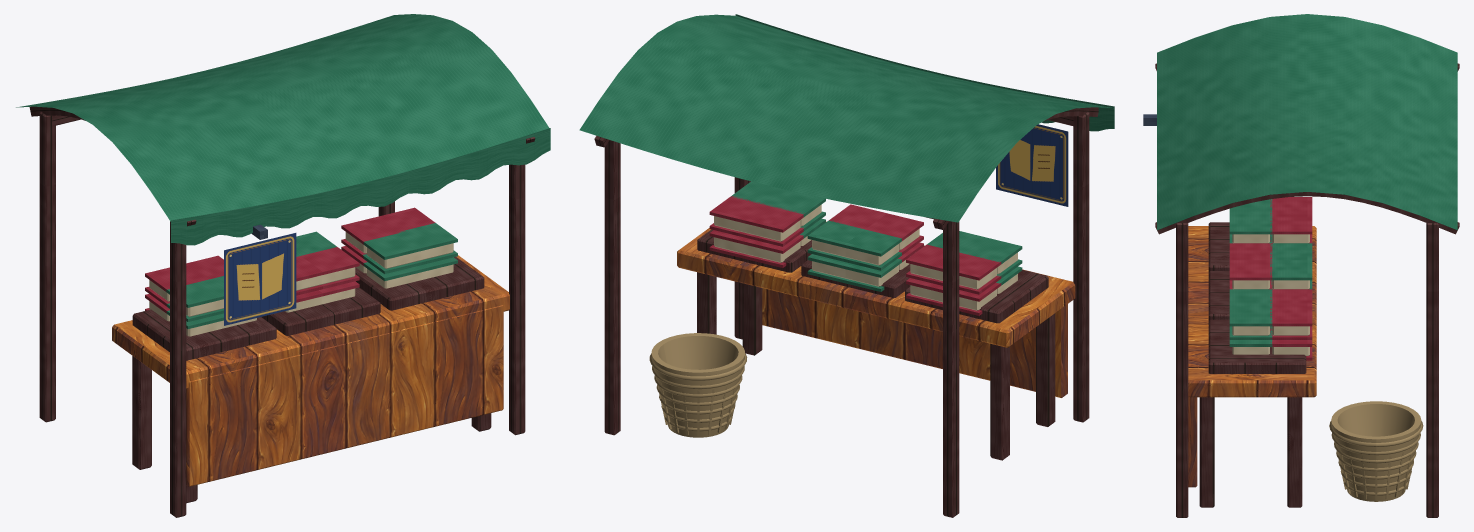
File: Book_Stall.fbx
3 views of the same model, side by side, from view 1: azimuth 30°, elevation 25°; view 2: azimuth 150°, elevation 25°; view 3: azimuth 270°, elevation 25° (orthographic). The views are drawn at different scales.
Visible parts, largest first — view 1: Draped stitched awning, Counter front, Scalloped canvas hem, Counter top, Painted shop sign, Canopy post.001, Canopy post, Canopy post.002, Display tray, Display tray.002, Display tray.001, Counter leg.001 (+9 smaller); view 2: Draped stitched awning, Counter front, Counter top, Woven basket body.001, Canopy post, Canopy post.001, Canopy post.003, Painted shop sign, Counter leg.001, Counter leg, Display tray, Leather book cover.023 (+19 smaller); view 3: Draped stitched awning, Counter top, Woven basket body.001, Canopy post.002, Canopy post.003, Display tray.002, Counter leg.002, Counter leg.003, Leather book cover.017, Leather book cover.015, Leather book cover.021, Leather book cover.023 (+12 smaller).
Part boxes in pixels (x1,y1,x2,y2): Draped stitched awning: [16, 14, 549, 221]; Counter front: [186, 305, 503, 486]; Scalloped canvas hem: [171, 128, 550, 245]; Counter top: [112, 255, 509, 388]; Painted shop sign: [224, 233, 296, 325]; Canopy post.001: [39, 111, 55, 422]; Canopy post: [170, 221, 186, 517]; Canopy post.002: [509, 164, 525, 435]; Display tray: [132, 309, 276, 360]; Display tray.002: [355, 257, 484, 310]; Display tray.001: [261, 287, 380, 335]; Counter leg.001: [132, 356, 151, 469]; Draped stitched awning: [579, 14, 1113, 222]; Counter front: [762, 288, 1067, 397]; Counter top: [677, 221, 1075, 347]; Woven basket body.001: [651, 333, 744, 437]; Canopy post: [1073, 112, 1089, 422]; Canopy post.001: [943, 221, 959, 517]; Canopy post.003: [604, 140, 620, 435]; Painted shop sign: [996, 124, 1068, 206]; Counter leg.001: [990, 344, 1009, 460]; Counter leg: [1036, 313, 1055, 426]; Display tray: [905, 270, 1048, 323]; Leather book cover.023: [709, 196, 804, 232]; Draped stitched awning: [1157, 14, 1457, 230]; Counter top: [1188, 226, 1316, 397]; Woven basket body.001: [1331, 401, 1421, 501]; Canopy post.002: [1176, 223, 1188, 517]; Canopy post.003: [1426, 223, 1438, 517]; Display tray.002: [1208, 319, 1306, 373]; Counter leg.002: [1199, 397, 1214, 507]; Counter leg.003: [1287, 397, 1302, 507]; Leather book cover.017: [1229, 289, 1272, 326]; Leather book cover.015: [1229, 243, 1272, 280]; Leather book cover.021: [1270, 243, 1312, 280]; Leather book cover.023: [1270, 289, 1312, 326].
Bounding box in the file's own units: 336 × 294 × 253.
